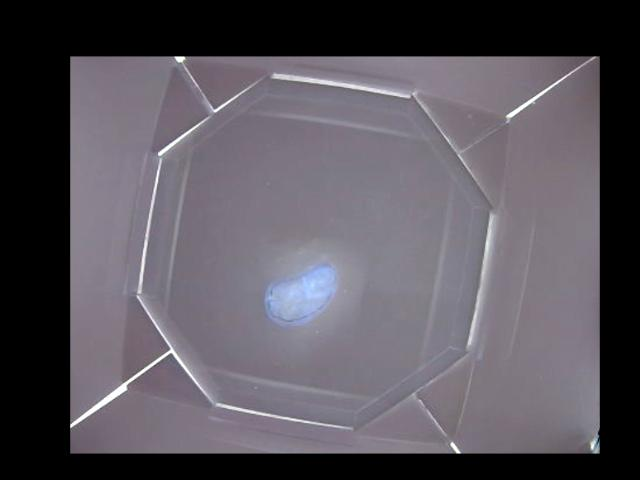Pebble: (260, 263, 334, 326)
